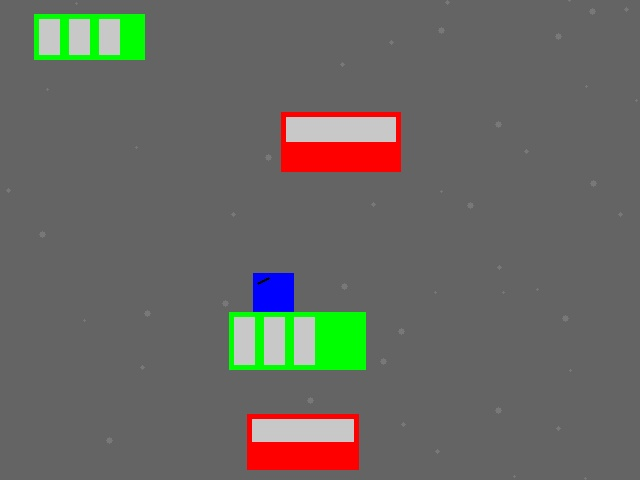bus: (229, 312, 365, 369), (34, 14, 144, 59)
car: (281, 112, 400, 171), (247, 414, 358, 469)
motorcycle: (253, 273, 293, 353)
